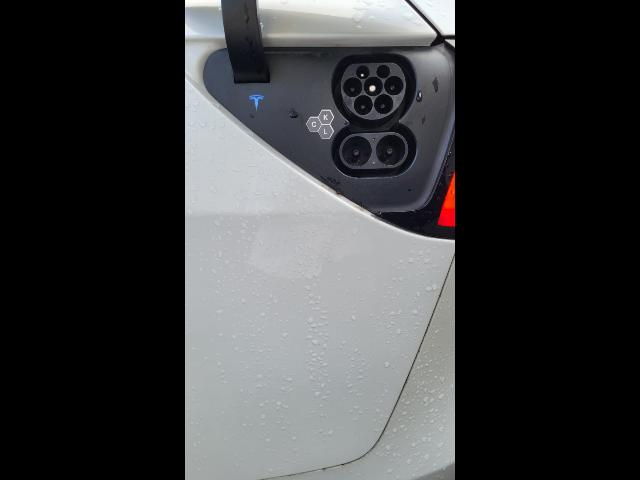inlet: (341, 63, 406, 119)
inlet-above-left: (356, 65, 370, 79)
inlet-above-right: (376, 65, 390, 78)
inlet-below-left: (354, 95, 373, 115)
inlet-below-right: (374, 94, 393, 114)
inlet-circle: (364, 77, 383, 96)
inlet-circle-left: (344, 77, 362, 97)
inlet-circle-right: (384, 76, 403, 96)
inlet-minus: (376, 135, 405, 166)
inlet-plus: (342, 136, 372, 167)
